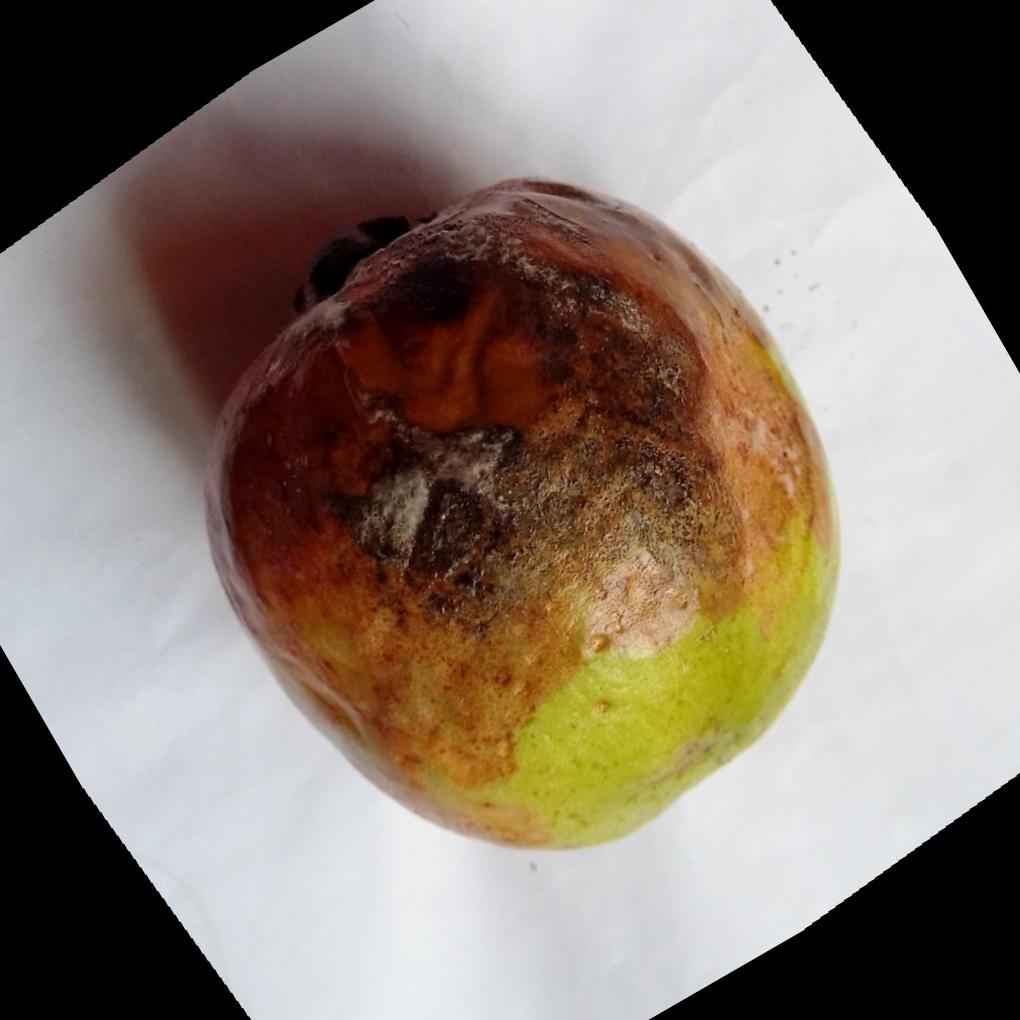FreshOrange: (197, 176, 840, 855)
